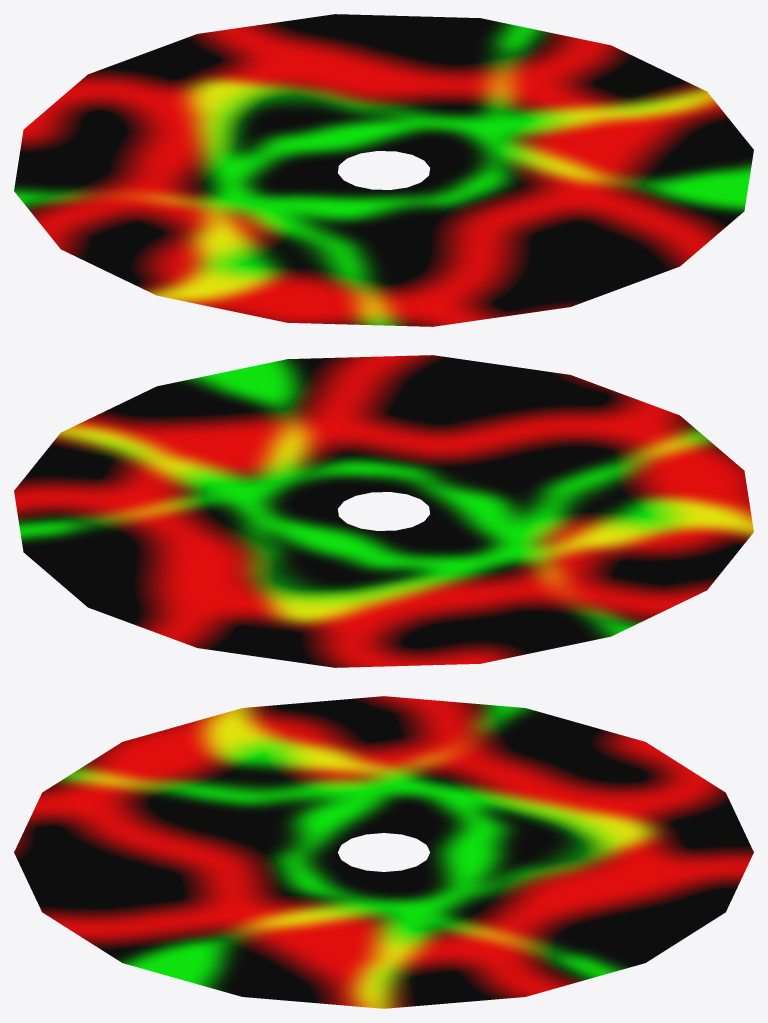
Rendered from splash_ring.fbx.
The picture shows the model from 3 angles, top to bottom: view 1: azimuth 30°, elevation 25°; view 2: azimuth 150°, elevation 25°; view 3: azimuth 270°, elevation 25°; orthographic projection.
Parts seen in each view (by area): view 1: Circle.002; view 2: Circle.002; view 3: Circle.002.
Boxes of the visible parts, left/top/right/bottom form: Circle.002: left=14, top=14, right=753, bottom=326; Circle.002: left=14, top=355, right=753, bottom=667; Circle.002: left=14, top=696, right=753, bottom=1008.
Size of the model in its own units: 256 by 256 by 7.31e-22.
1 material, 1 textured.
